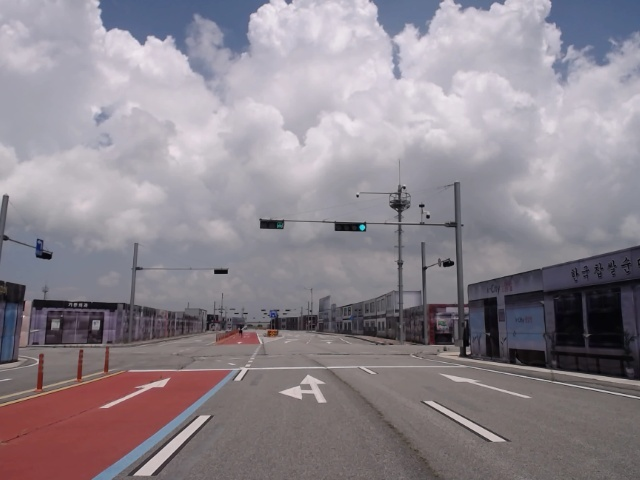straight_green_4: (335, 221, 368, 231)
